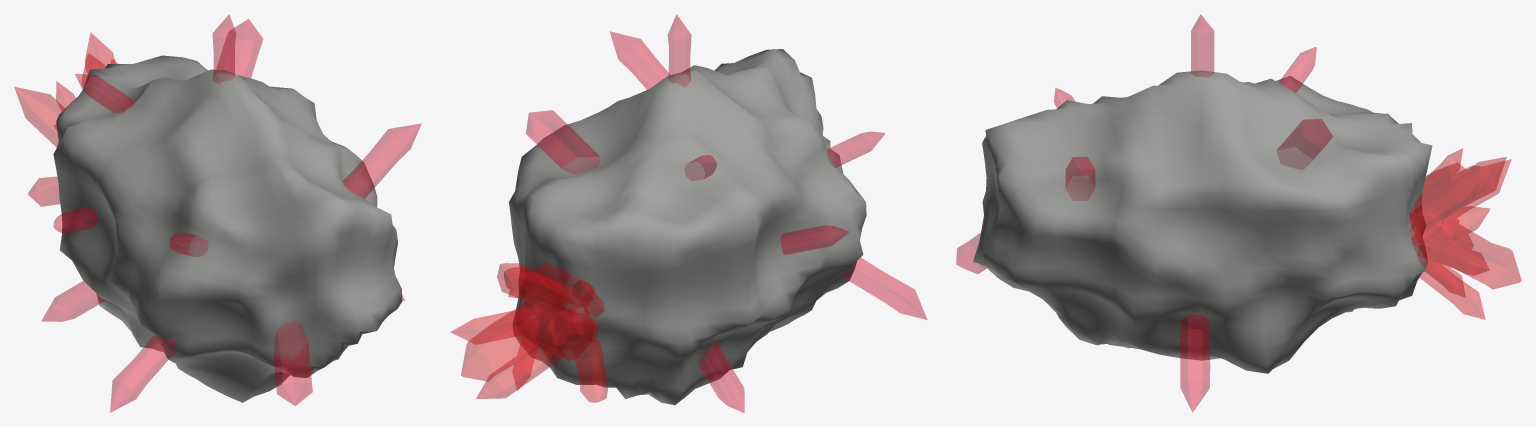
Rendered from a-pretorien.glb.
The picture shows the model from 3 angles, left to right: view 1: azimuth 30°, elevation 25°; view 2: azimuth 150°, elevation 25°; view 3: azimuth 270°, elevation 25°; orthographic projection. The views are drawn at different scales.
Parts seen in each view (by area): view 1: azeti, petits_cristaux, crystals group red; view 2: azeti, crystals group red, petits_cristaux; view 3: azeti, crystals group red, petits_cristaux.
Boxes of the visible parts, x1,y1,x2,y2 form: azeti: (53,55,402,402); petits_cristaux: (42,14,421,412); crystals group red: (14,33,117,206); azeti: (509,49,866,404); crystals group red: (451,262,608,402); petits_cristaux: (508,14,927,412); azeti: (973,70,1432,373); crystals group red: (1408,148,1521,319); petits_cristaux: (956,14,1332,412).
Bounding box in the file's own units: 21.71 × 20.62 × 30.67.
